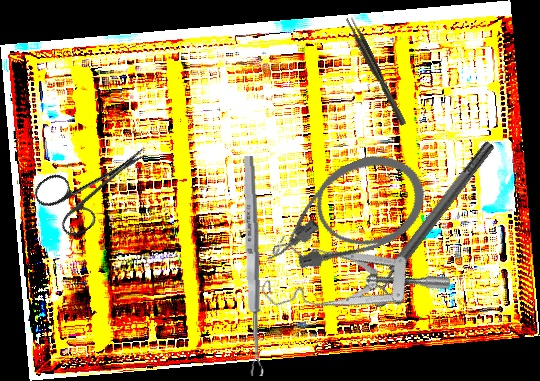Cannula: (245, 140, 439, 288)
Fixation Ring: (356, 134, 505, 312)
Iris Scissors: (29, 122, 165, 244)
Speculum: (251, 201, 454, 371)
Surgical Spoon: (241, 155, 264, 377)
Tissue Forceps: (344, 14, 407, 128)
